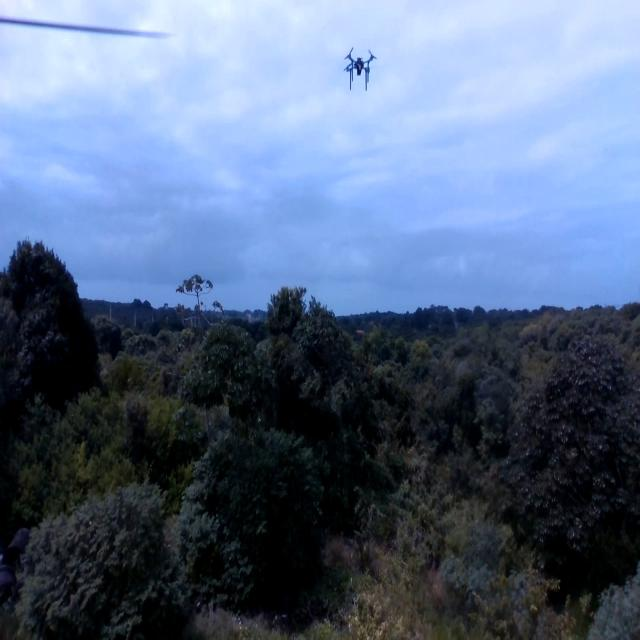-uav-: (338, 40, 381, 99)
